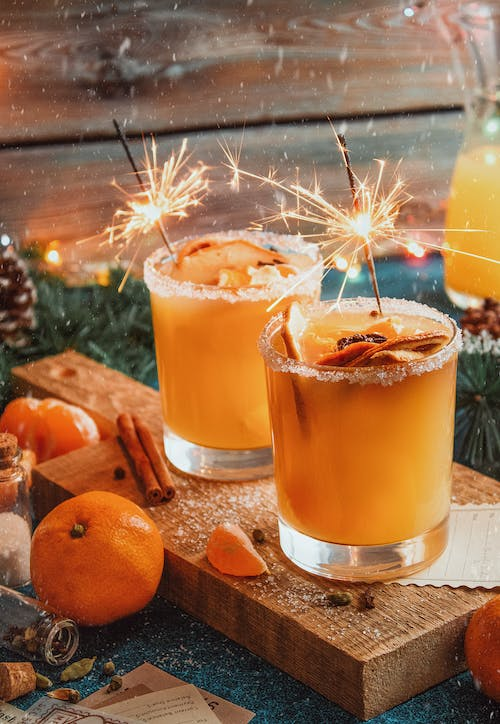alcohol: (256, 296, 462, 585), (142, 229, 325, 483)
